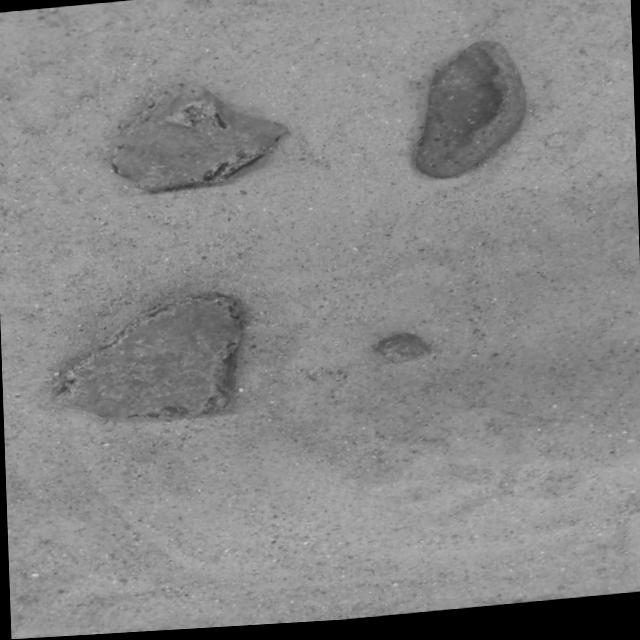rock: (51, 294, 241, 421), (112, 85, 285, 191), (416, 46, 525, 182), (377, 337, 426, 366)
